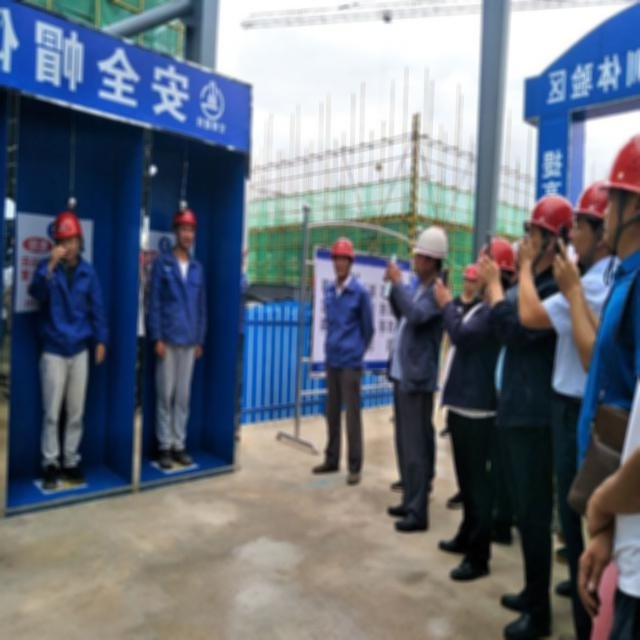Con_Casco: (55, 210, 83, 267), (330, 237, 355, 279), (174, 211, 198, 250)
